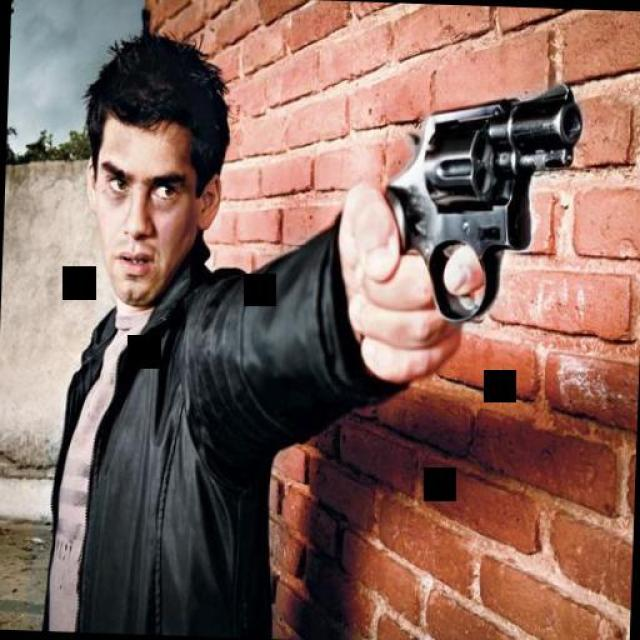gun: (372, 68, 582, 328)
